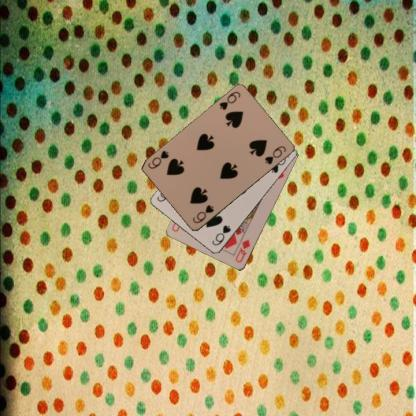6s: (190, 202, 215, 225), (209, 223, 232, 247), (217, 89, 242, 111)
Qd: (233, 237, 252, 264)
